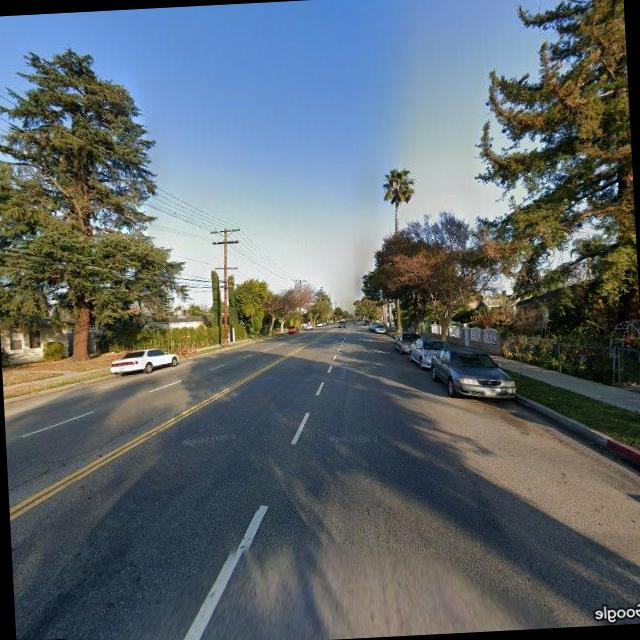pothole: (13, 415, 157, 492)
